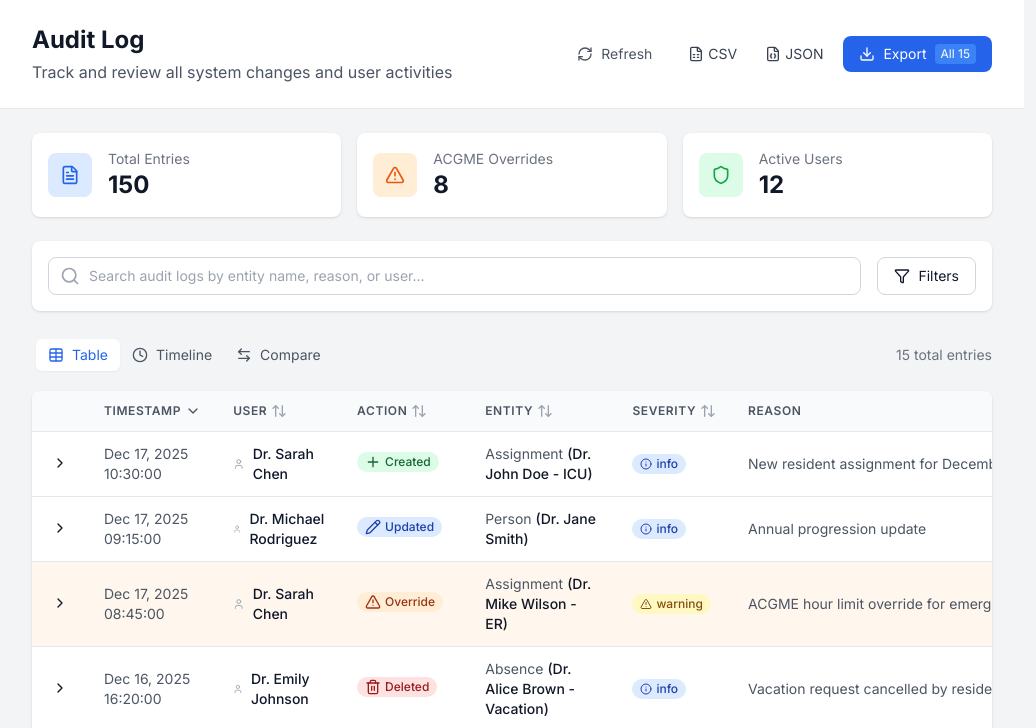
it: AuditLogPage › Filters Integration › should update query when filters change
Note: Open advanced filters
What coordinates should you click on to do the following:
click the button "Filters"
I would click on:
 (927, 276)
Its box is x1=878 y1=257 x2=976 y2=295.
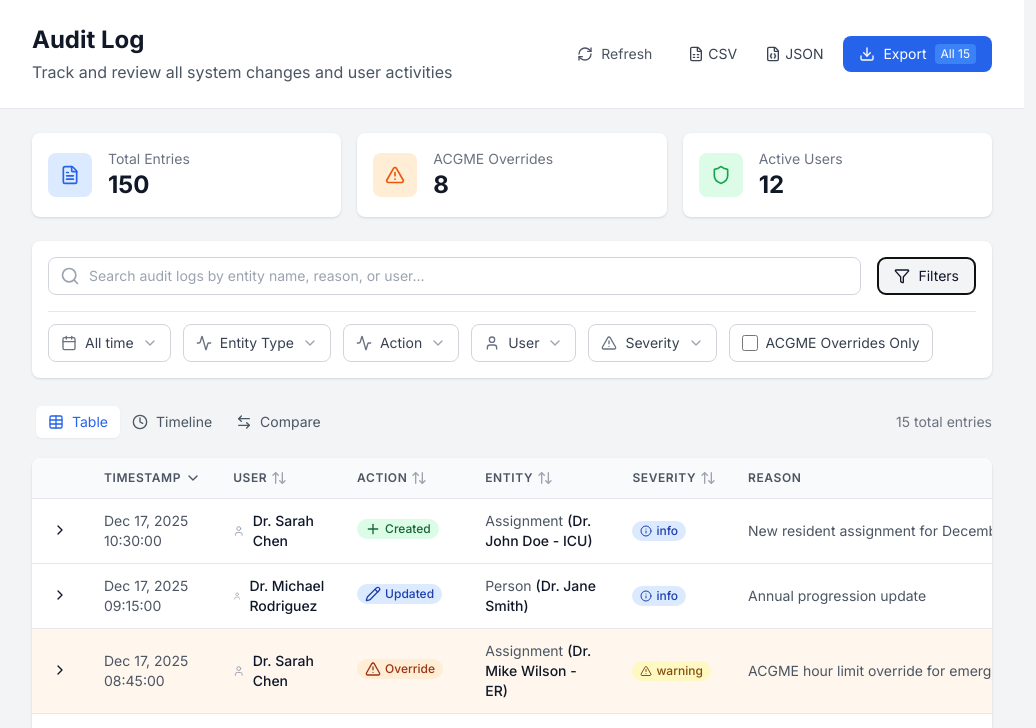
Now the text "Entity Type" is shown, box x1=220 y1=333 x2=294 y2=353
